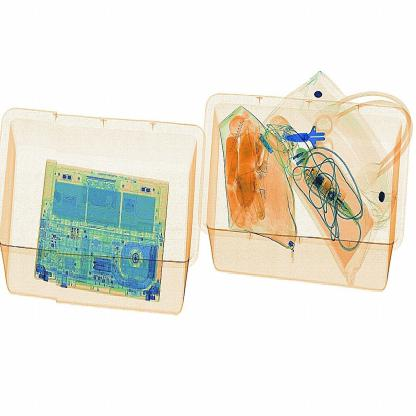gun: (284, 108, 342, 164)
